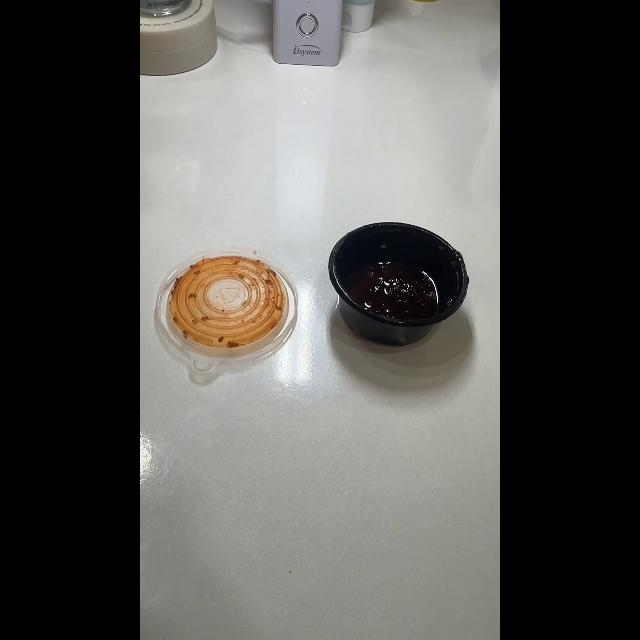dirty: (327, 221, 469, 347), (155, 249, 297, 365)
